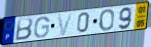0: (76, 11, 91, 34)
9: (118, 6, 133, 31)
B: (14, 17, 34, 42)
G: (33, 15, 51, 39)
O: (99, 8, 115, 32)
V: (57, 12, 75, 37)
